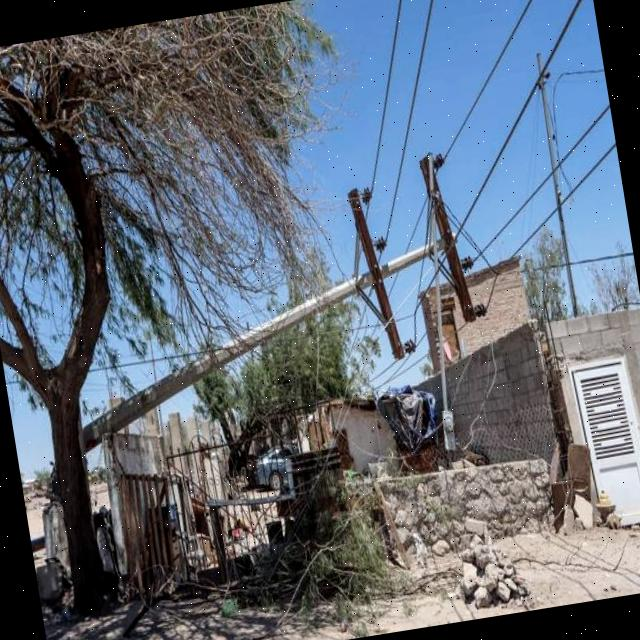Broken Pole: (83, 145, 489, 455)
